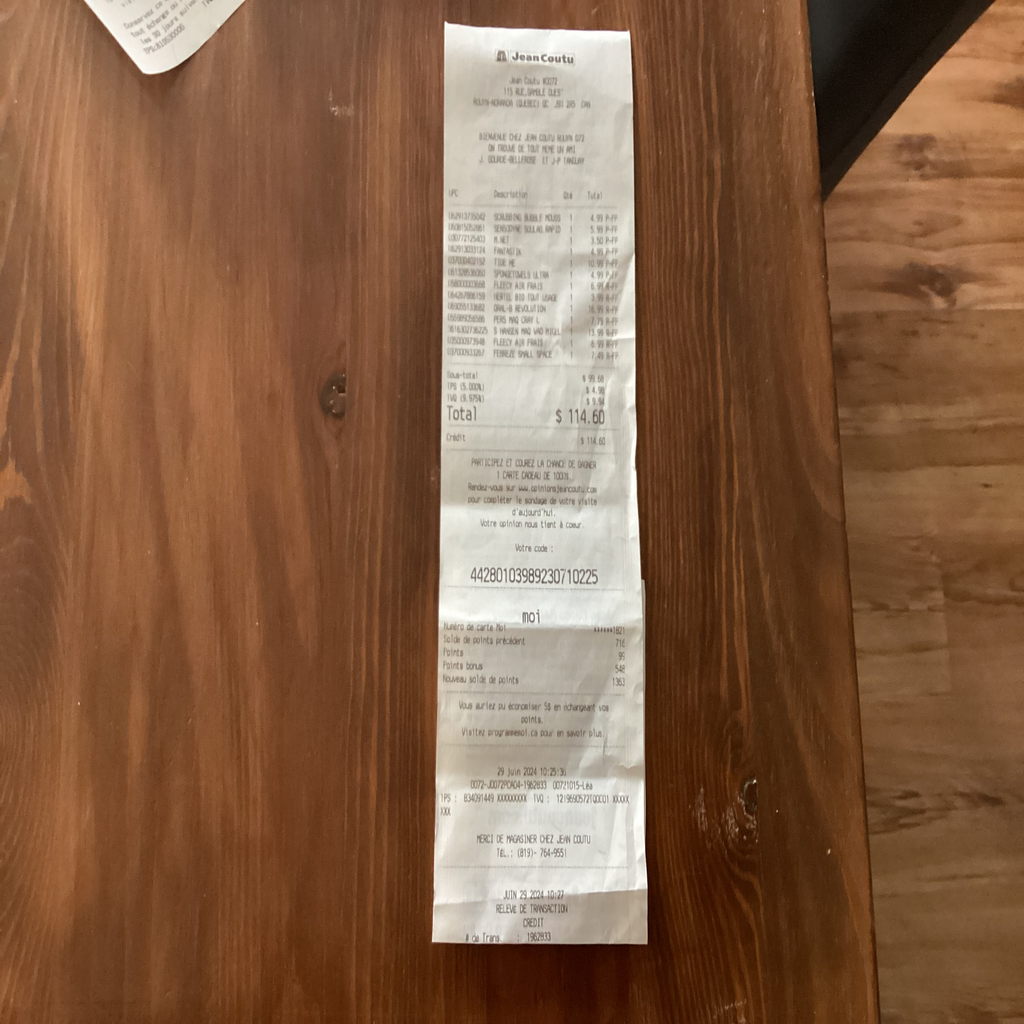recipt: (430, 23, 650, 948)
